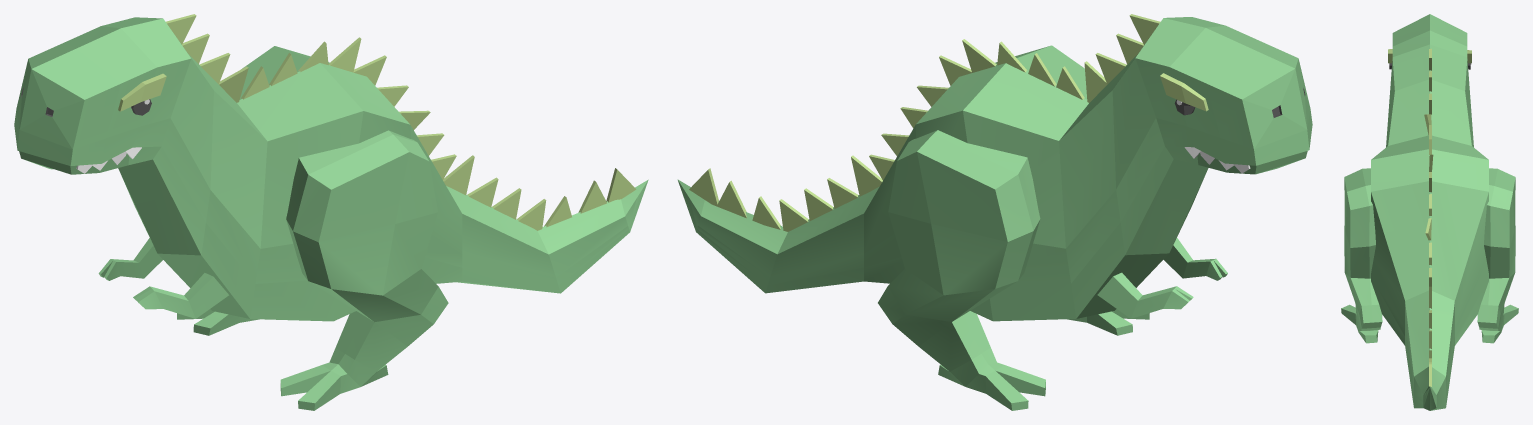
Rendered from dinosaurs_02.gltf.
The picture shows the model from 3 angles, left to right: view 1: azimuth 30°, elevation 25°; view 2: azimuth 150°, elevation 25°; view 3: azimuth 270°, elevation 25°; orthographic projection. The views are drawn at different scales.
Parts seen in each view (by area): view 1: node-0; view 2: node-0; view 3: node-0.
Boxes of the visible parts, <box> form: node-0: <box>14,14,648,410</box>; node-0: <box>677,14,1312,410</box>; node-0: <box>1341,14,1518,410</box>.
Bounding box in the file's own units: 360 × 199 × 132.
